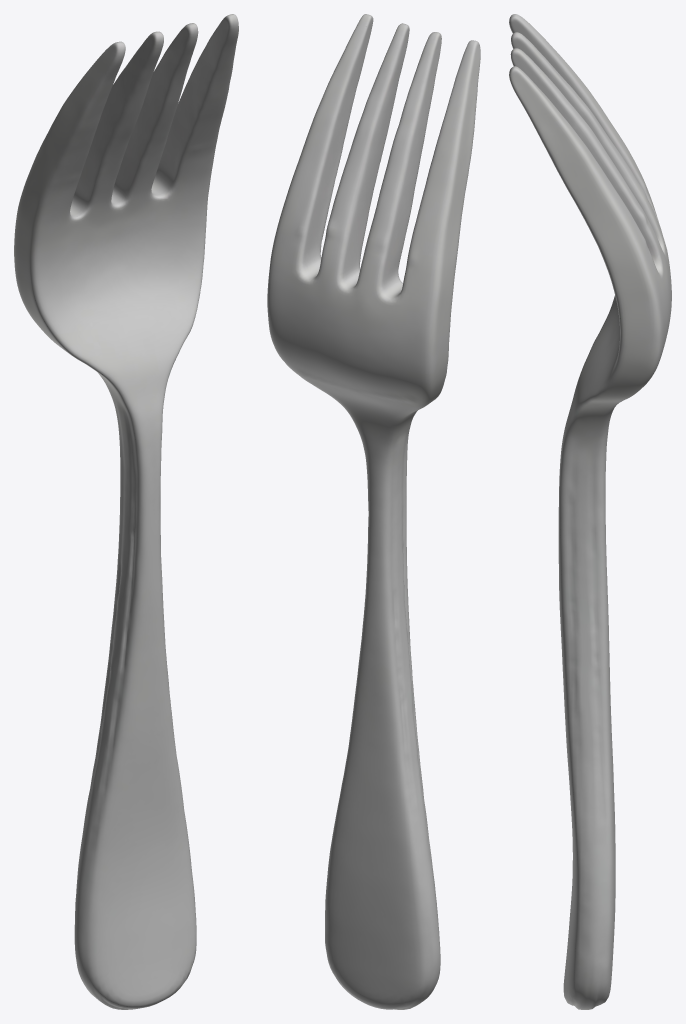
Rendered from model_dessert_fork.glb.
3 renders of one model, left to right at view 1: azimuth 30°, elevation 25°; view 2: azimuth 150°, elevation 25°; view 3: azimuth 270°, elevation 25°, orthographic. The views are drawn at different scales.
Visible parts, largest first — view 1: tripo_node_012157b5-97c6-4c09-9c44-d517e3644029; view 2: tripo_node_012157b5-97c6-4c09-9c44-d517e3644029; view 3: tripo_node_012157b5-97c6-4c09-9c44-d517e3644029.
Part boxes in pixels (x1,y1,x2,y2): tripo_node_012157b5-97c6-4c09-9c44-d517e3644029: (14,14,238,1009); tripo_node_012157b5-97c6-4c09-9c44-d517e3644029: (267,14,480,1009); tripo_node_012157b5-97c6-4c09-9c44-d517e3644029: (509,14,671,1009).
Bounding box in the file's own units: 0.1842 × 0.9997 × 0.1535.
1 material, 1 textured.
